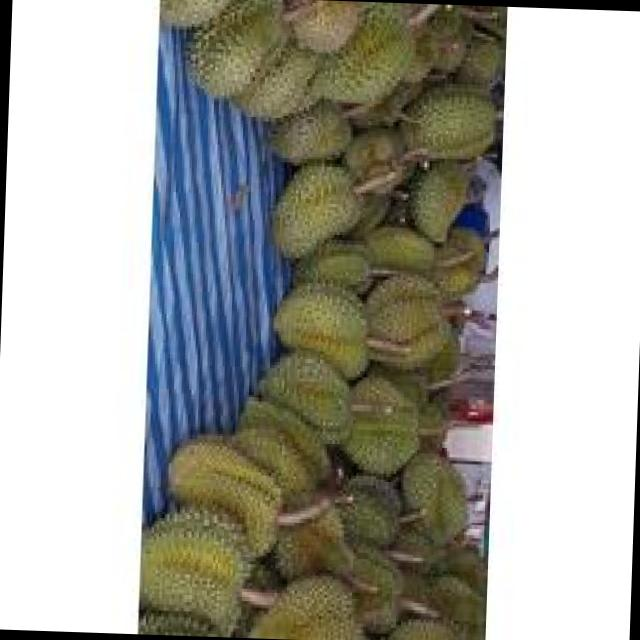fruit: (174, 0, 446, 143), (260, 152, 374, 270), (238, 560, 376, 640)
